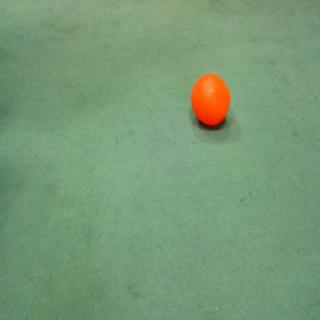orange: (188, 69, 234, 133)
